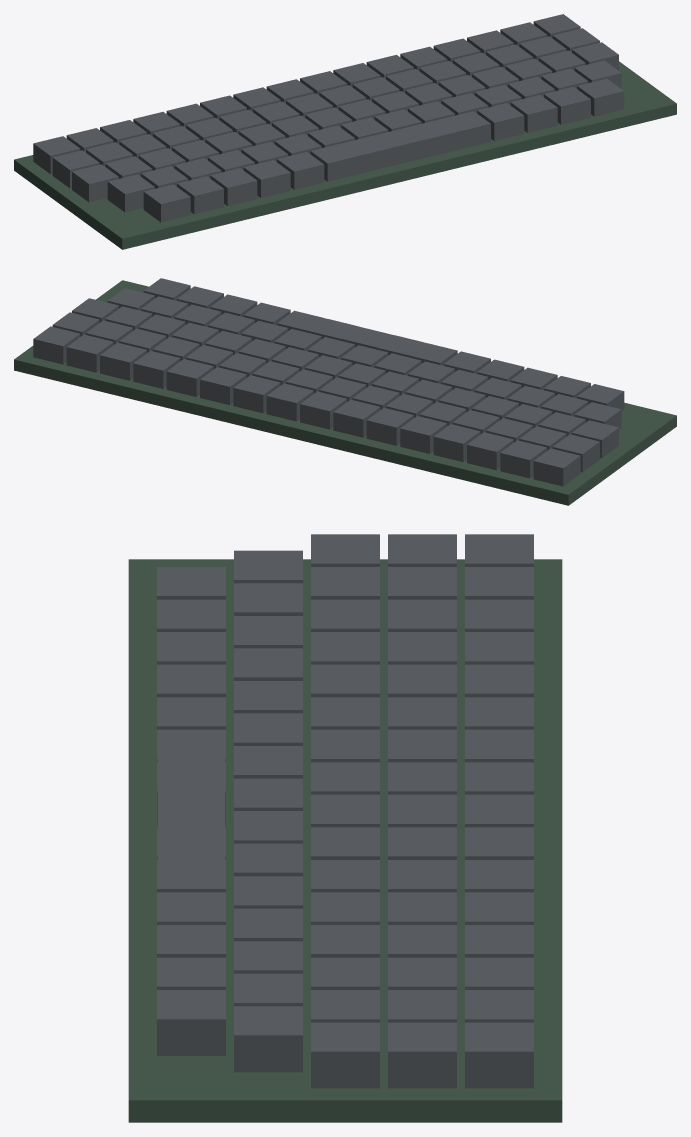
Rendered from keyboard-sb-75.glb.
3 views of the same model, one above another, from view 1: azimuth 30°, elevation 25°; view 2: azimuth 150°, elevation 25°; view 3: azimuth 270°, elevation 25° (orthographic). The views are drawn at different scales.
Parts seen in each view (by area): view 1: geometry_0, geometry_71, geometry_64, geometry_49, geometry_33, geometry_68, geometry_75, geometry_77, geometry_66, geometry_67, geometry_65, geometry_74 (+66 smaller); view 2: geometry_0, geometry_71, geometry_1, geometry_6, geometry_2, geometry_7, geometry_10, geometry_15, geometry_16, geometry_9, geometry_8, geometry_12 (+64 smaller); view 3: geometry_0, geometry_71, geometry_16, geometry_32, geometry_48, geometry_63, geometry_77, geometry_5, geometry_7, geometry_9, geometry_21, geometry_23 (+64 smaller).
Boxes of the visible parts, <box> form: geometry_0: <box>14,61,676,249</box>; geometry_71: <box>339,118,460,174</box>; geometry_64: <box>143,184,190,222</box>; geometry_49: <box>107,174,154,212</box>; geometry_33: <box>72,164,118,202</box>; geometry_68: <box>277,152,324,189</box>; geometry_75: <box>510,95,557,132</box>; geometry_77: <box>577,78,624,116</box>; geometry_66: <box>210,168,257,206</box>; geometry_67: <box>243,160,290,197</box>; geometry_65: <box>177,176,223,214</box>; geometry_74: <box>477,103,524,140</box>; geometry_0: <box>14,280,676,505</box>; geometry_71: <box>306,317,428,357</box>; geometry_1: <box>533,448,580,486</box>; geometry_6: <box>366,408,413,445</box>; geometry_2: <box>500,440,547,478</box>; geometry_7: <box>333,399,380,437</box>; geometry_10: <box>233,375,280,413</box>; geometry_15: <box>66,334,113,372</box>; geometry_16: <box>33,326,80,364</box>; geometry_9: <box>266,383,313,421</box>; geometry_8: <box>300,391,347,429</box>; geometry_12: <box>166,359,213,396</box>; geometry_0: <box>128,559,562,1122</box>; geometry_71: <box>157,757,225,861</box>; geometry_16: <box>465,1022,533,1088</box>; geometry_32: <box>388,1022,456,1088</box>; geometry_48: <box>311,1022,379,1088</box>; geometry_63: <box>234,1006,302,1072</box>; geometry_77: <box>157,990,225,1055</box>; geometry_5: <box>465,664,533,697</box>; geometry_7: <box>465,729,533,762</box>; geometry_9: <box>465,794,533,827</box>; geometry_21: <box>388,664,456,697</box>; geometry_23: <box>388,729,456,762</box>.
Bounding box in the file's own units: 0.316 × 0.016 × 0.107.
